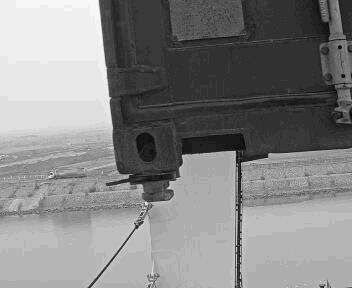twist_lock_1: (119, 164, 187, 212)
